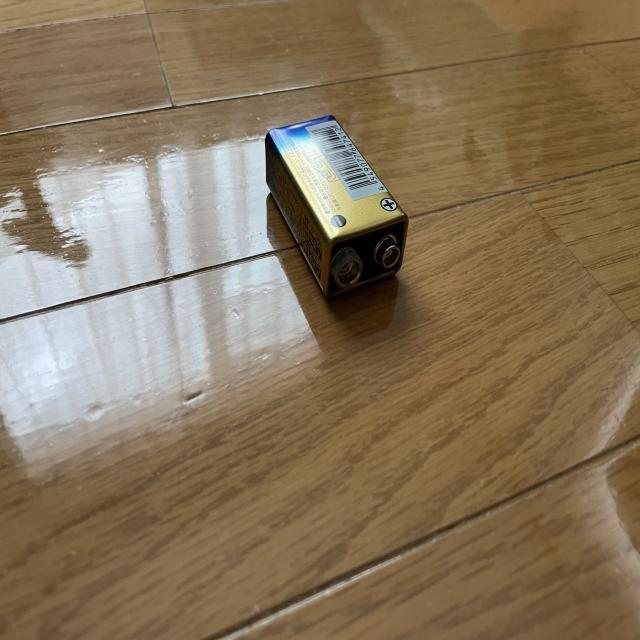9V: (264, 115, 409, 302)
